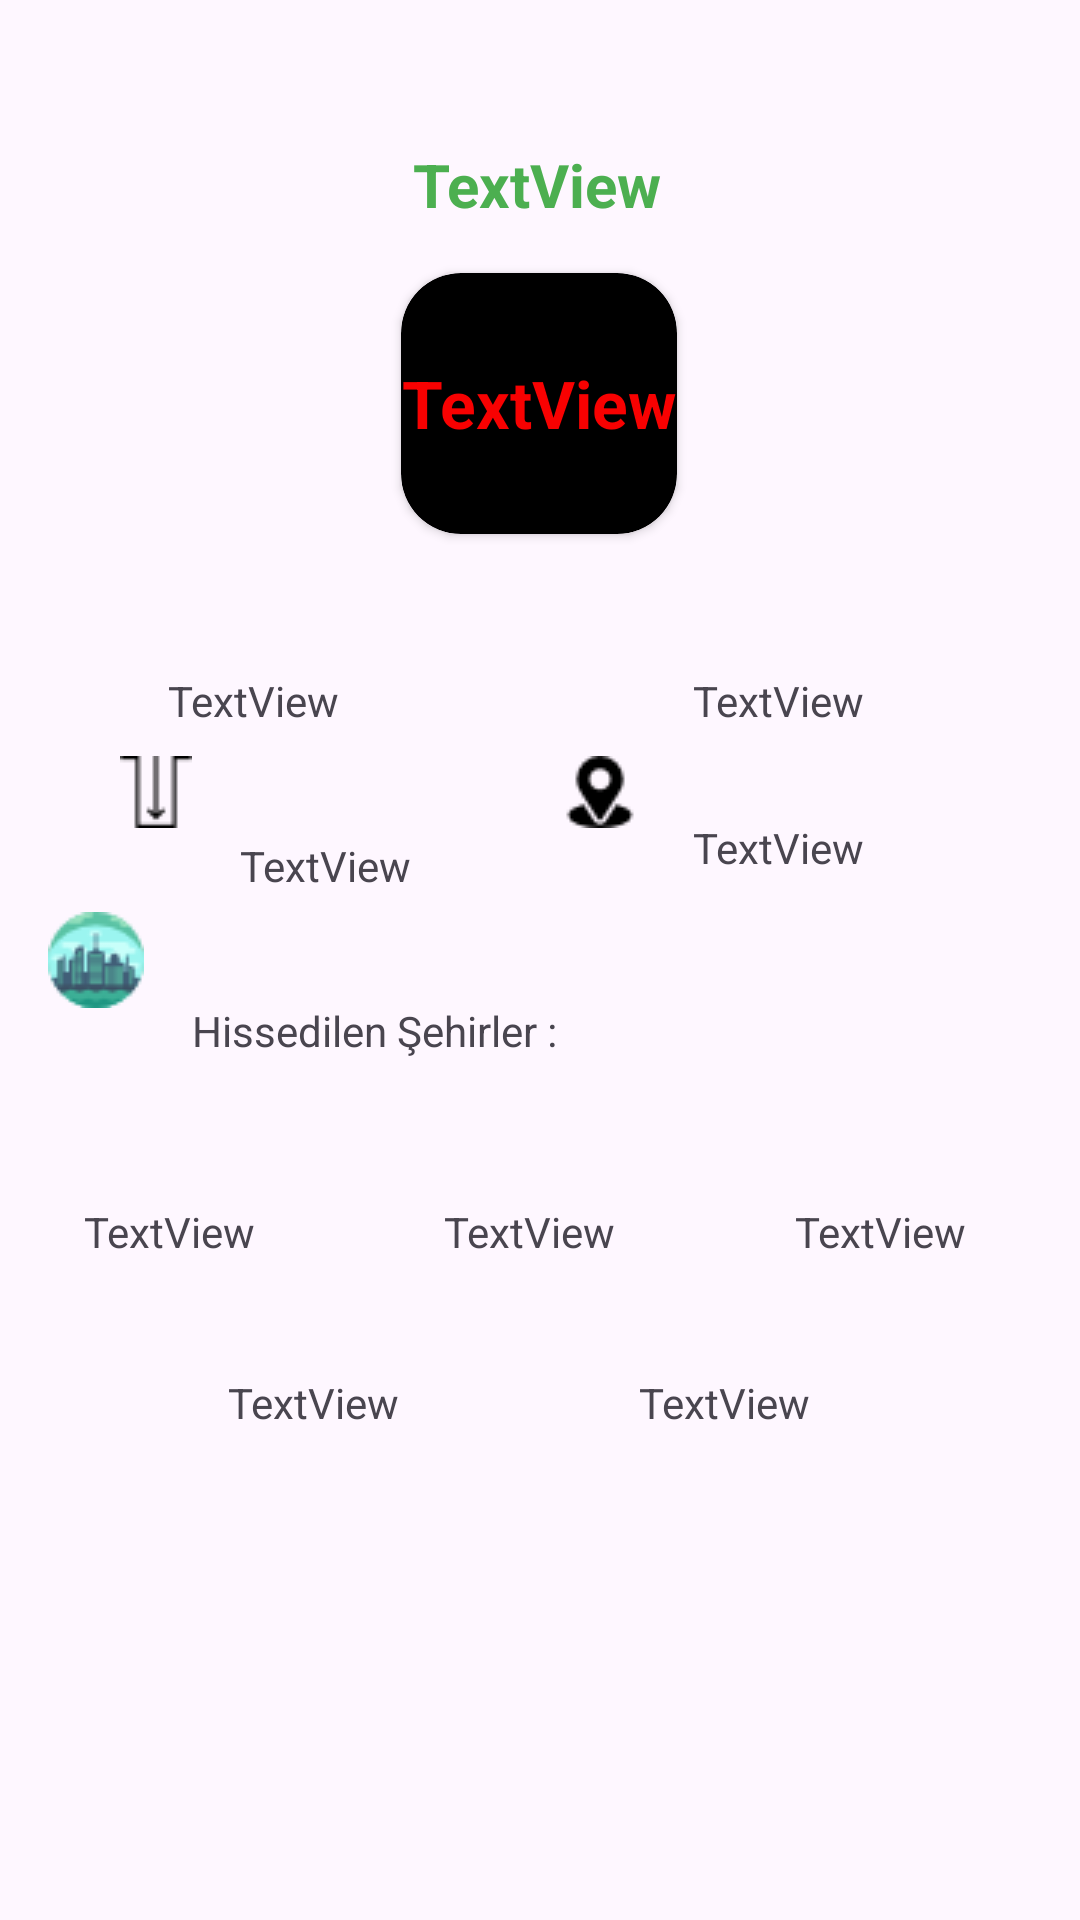

Icons on this 1080px×1920px Android screen, each with the point to tap as (x,y):
city: (96,960)
depth: (156,792)
location: (600,792)
